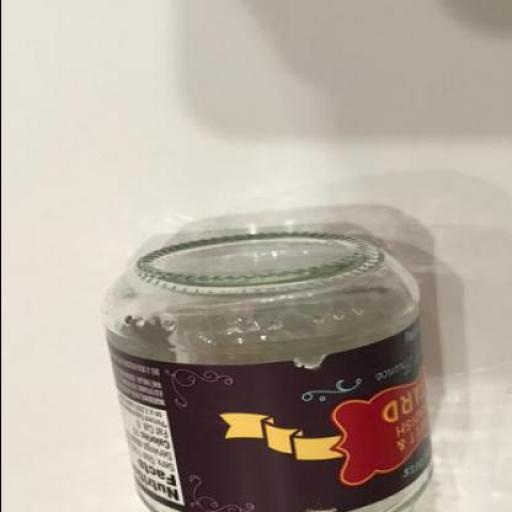glass: (97, 228, 433, 510)
